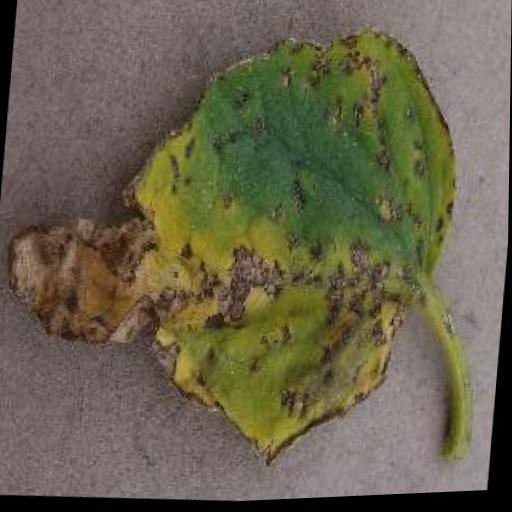Bacterial Spot: (0, 0, 473, 496)
